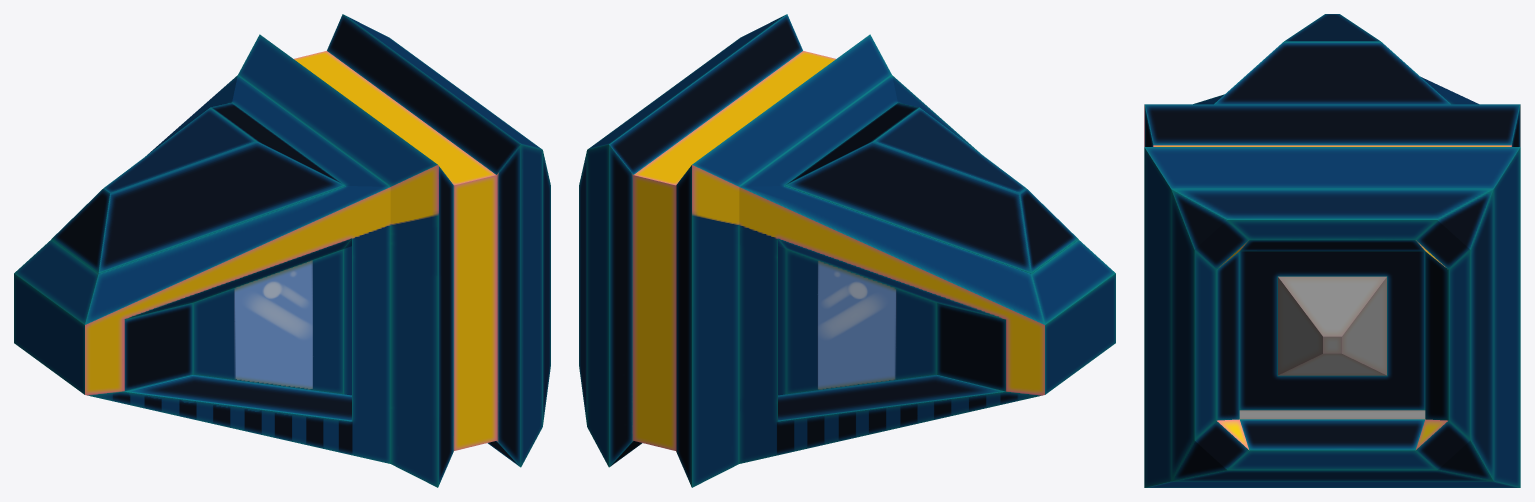
File: BabyRocketONE.fbx
3 renders of one model, left to right at view 1: azimuth 30°, elevation 25°; view 2: azimuth 150°, elevation 25°; view 3: azimuth 270°, elevation 25°, orthographic. The views are drawn at different scales.
Parts seen in each view (by area): view 1: Cube; view 2: Cube; view 3: Cube.
Part boxes in pixels (<box>): Cube: <box>14,14,550,487</box>; Cube: <box>579,14,1115,487</box>; Cube: <box>1144,14,1520,487</box>.
Size of the model in its own units: 166 by 119 by 118.
